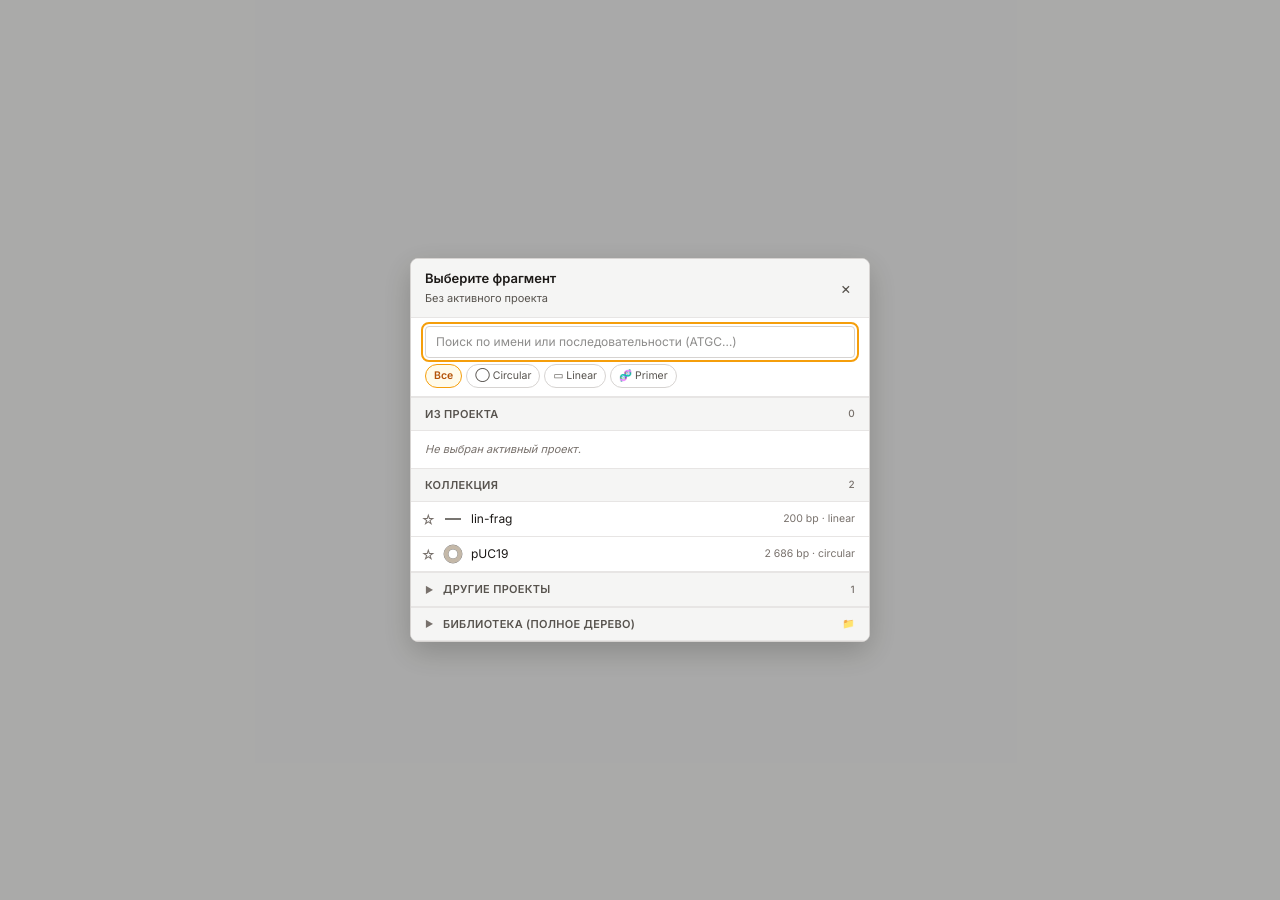
Test: V85 — PlaceholderTreePicker entry-row visual parity › «Другие проекты» row shows project badge INLINE (no overlap)
# Expand the «other-projects» section first.
Click the button with test id "skeleton-picker-section-header-other-projects" at (497,589), box 411,572 -> 869,607
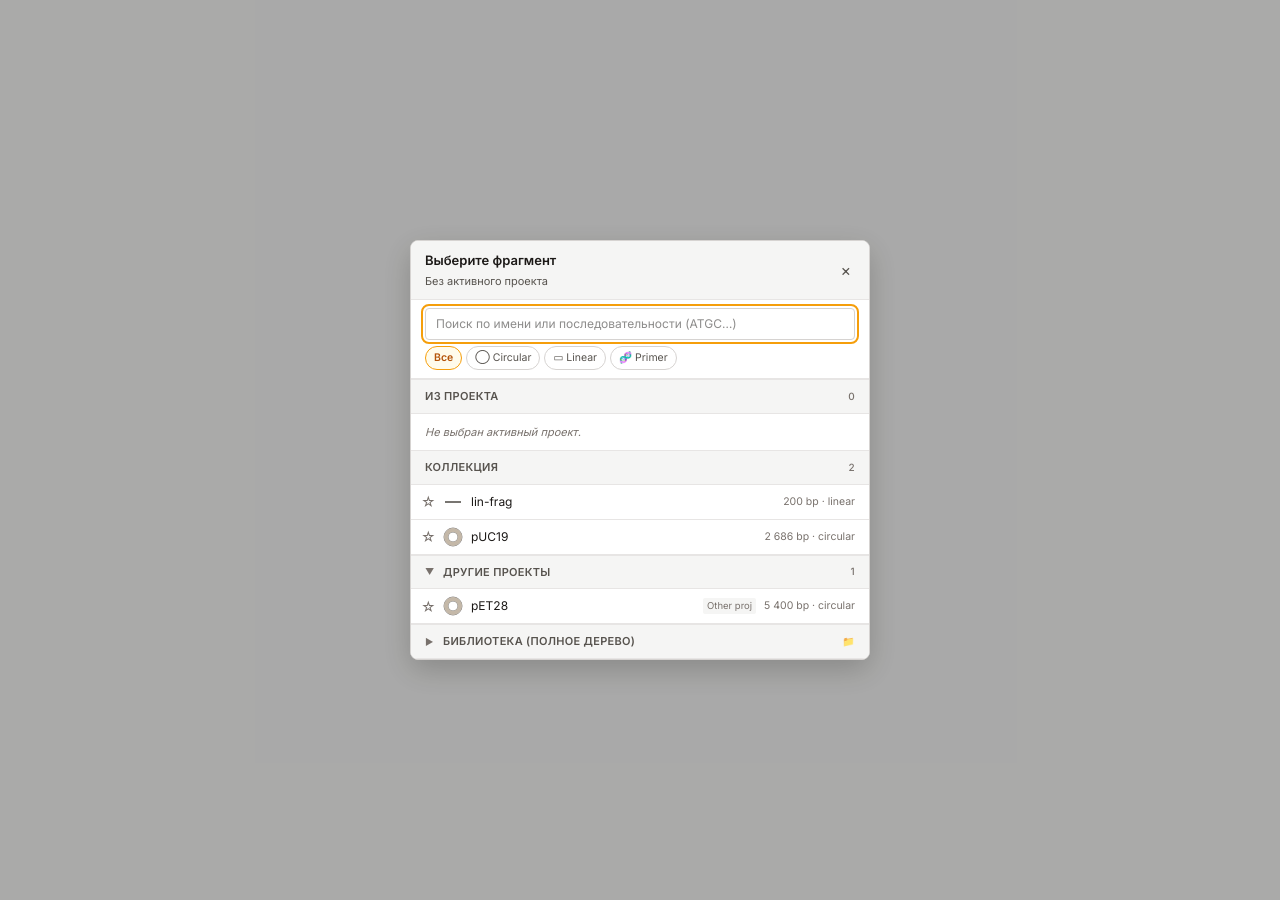
Expected: the text with test id "skeleton-placeholder-picker-extra-badge-le-other" reads "Other proj", 707,600 -> 752,611
